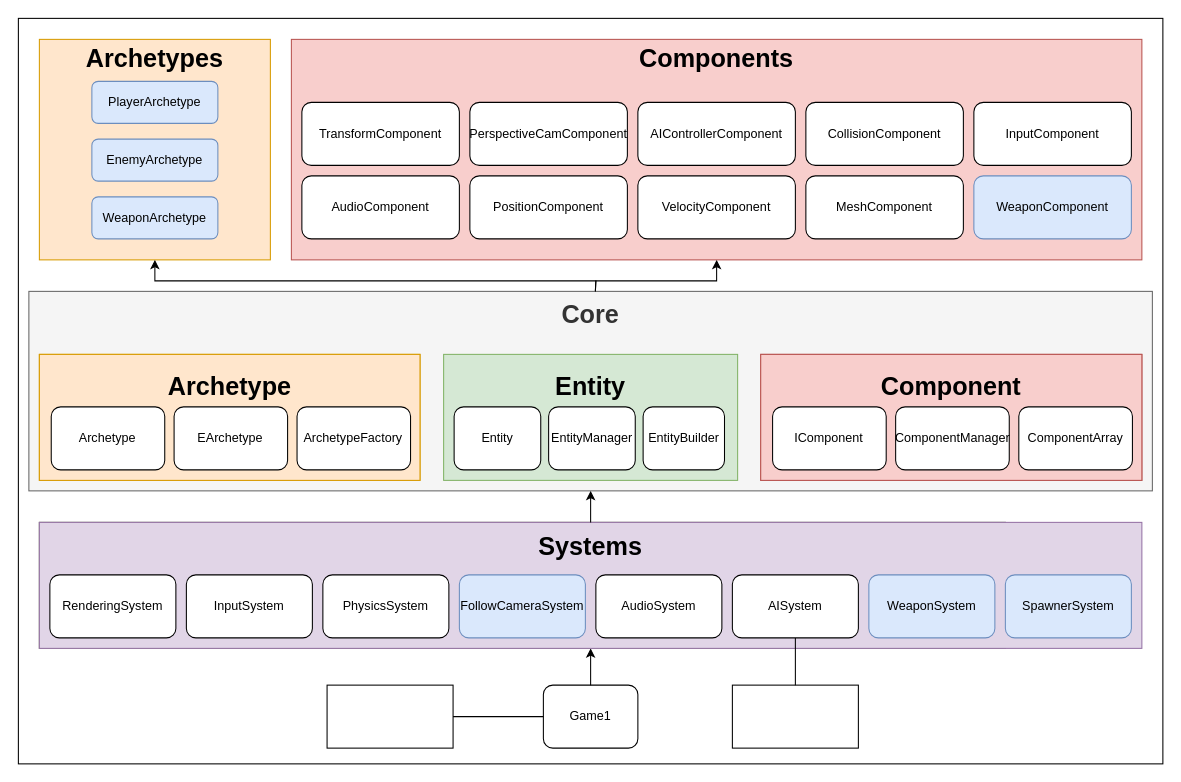
This 1181x782 diagram has some shape labels left out. Each missing label, with the centre of its shape:
"AI" belongs at (794,716).
"Content" belongs at (389,716).
